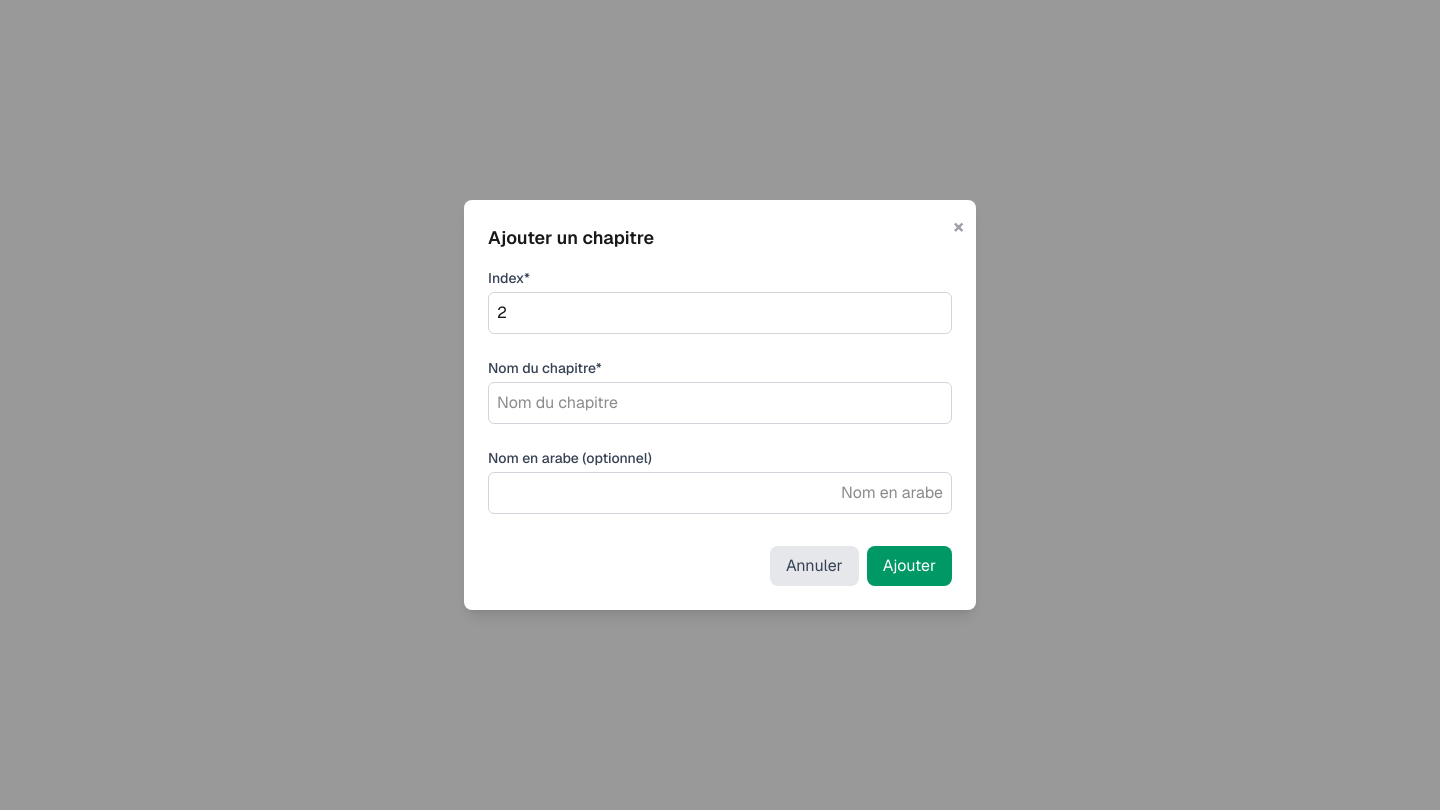
Test: AddItemFormDialog › shows validation error if chapter name is missing
Click the button "Ajouter".
click(909, 566)  # box x1=867 y1=546 x2=952 y2=586
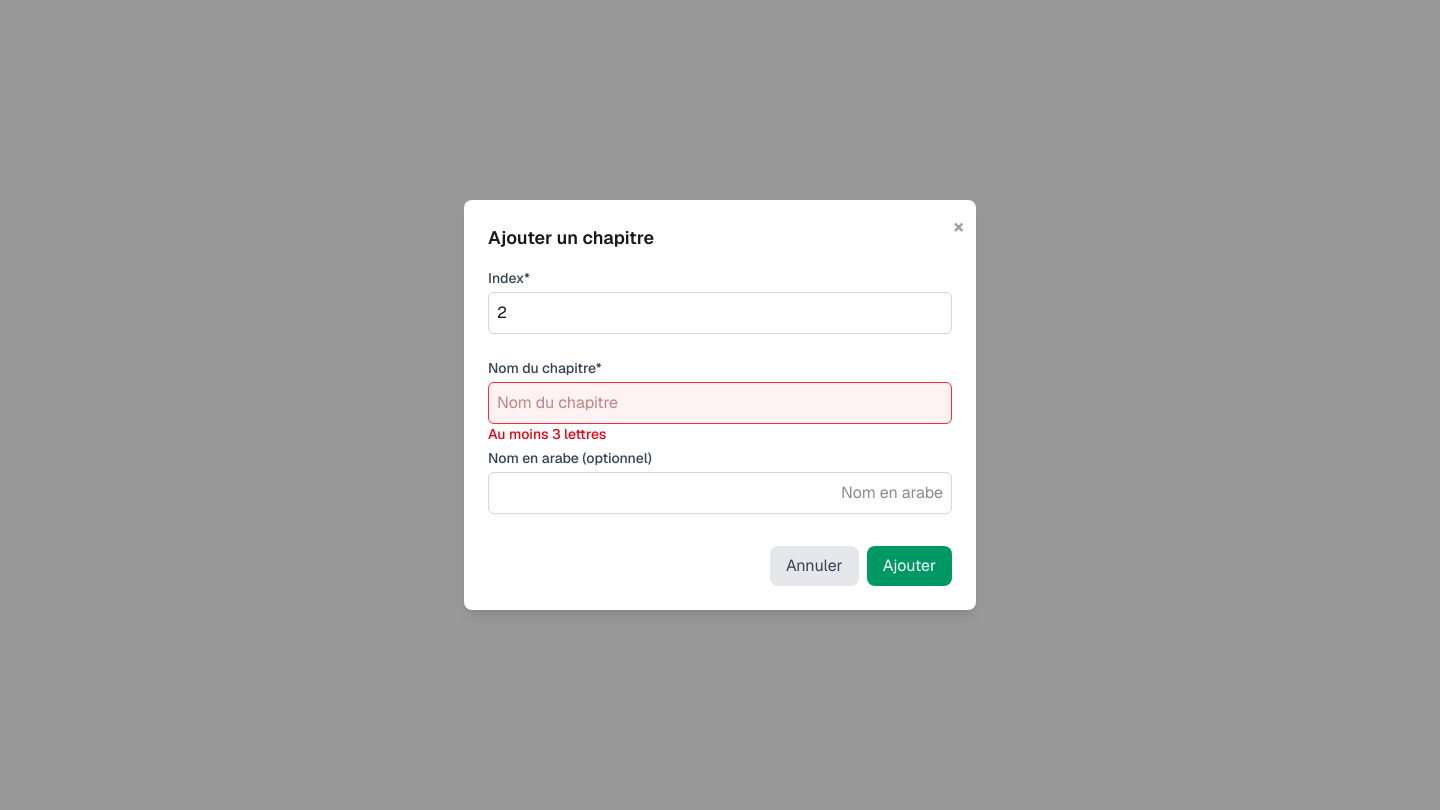
Expected: the text "Au moins 3 lettres" is shown, x1=488 y1=424 x2=606 y2=444
